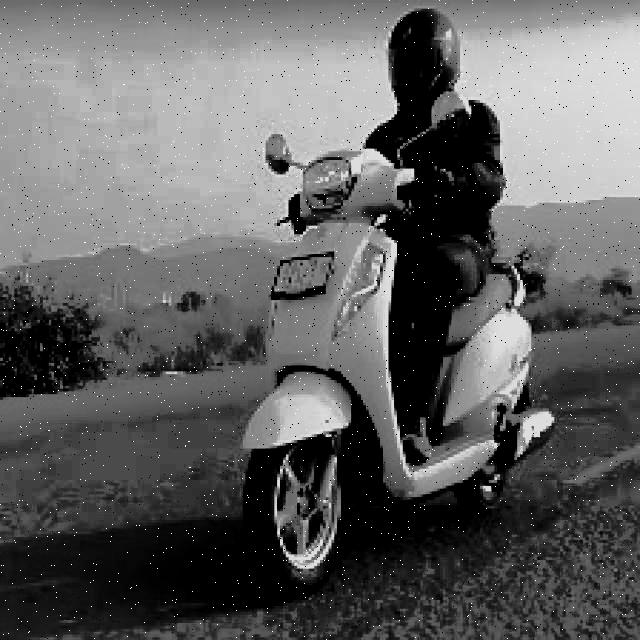Bike: (247, 134, 524, 578)
